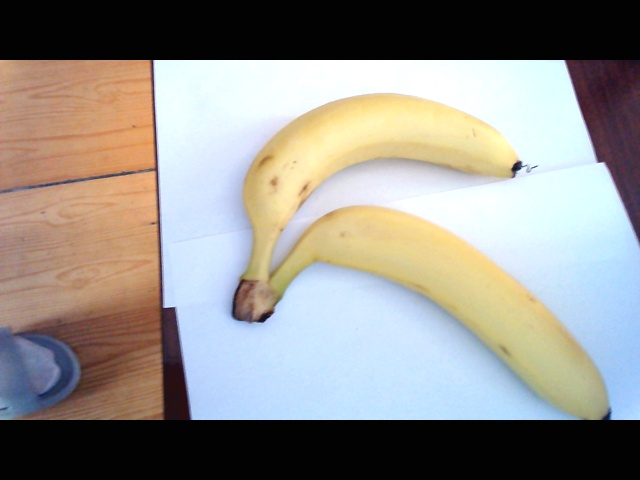banana: (251, 214, 615, 418), (215, 77, 541, 199)
